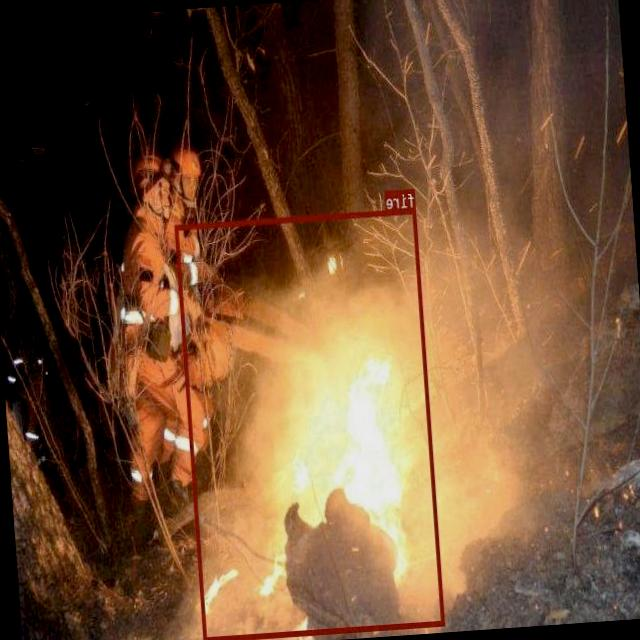fire: (174, 206, 445, 640)
